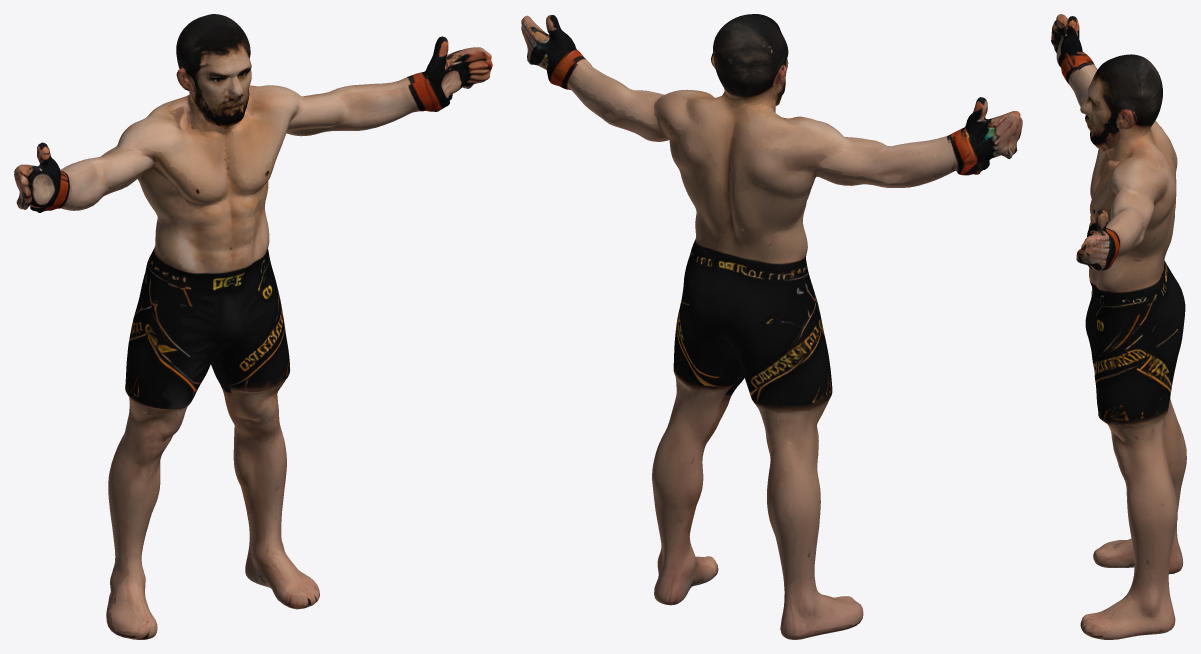
File: fighter_apose_03.obj
The picture shows the model from 3 angles, left to right: view 1: azimuth 30°, elevation 25°; view 2: azimuth 150°, elevation 25°; view 3: azimuth 270°, elevation 25°; orthographic projection. The views are drawn at different scales.
Parts seen in each view (by area): view 1: textured_mesh; view 2: textured_mesh; view 3: textured_mesh.
Part boxes in pixels (x1,y1,x2,y2): textured_mesh: (14,14,492,639); textured_mesh: (521,14,1022,639); textured_mesh: (1051,14,1186,639).
Bounding box in the file's own units: 1.73 × 1.99 × 0.4514.
1 material, 1 textured.
